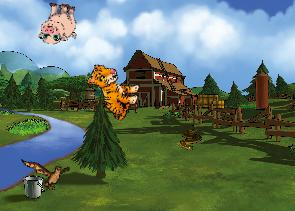eagle: (21, 152, 73, 194)
pig: (37, 0, 79, 46)
tiger: (78, 60, 145, 123)
